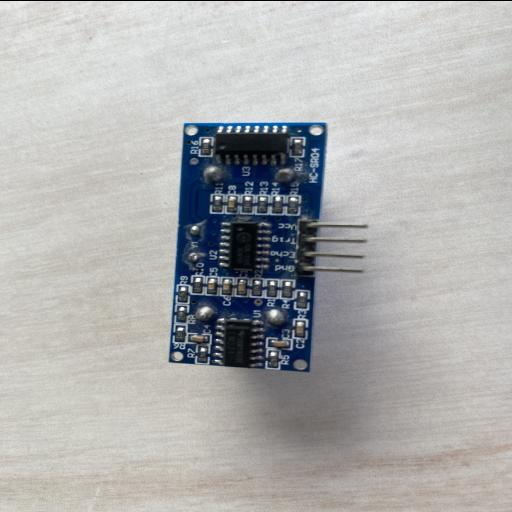Ultrasonic Sensor: (166, 121, 370, 373)
